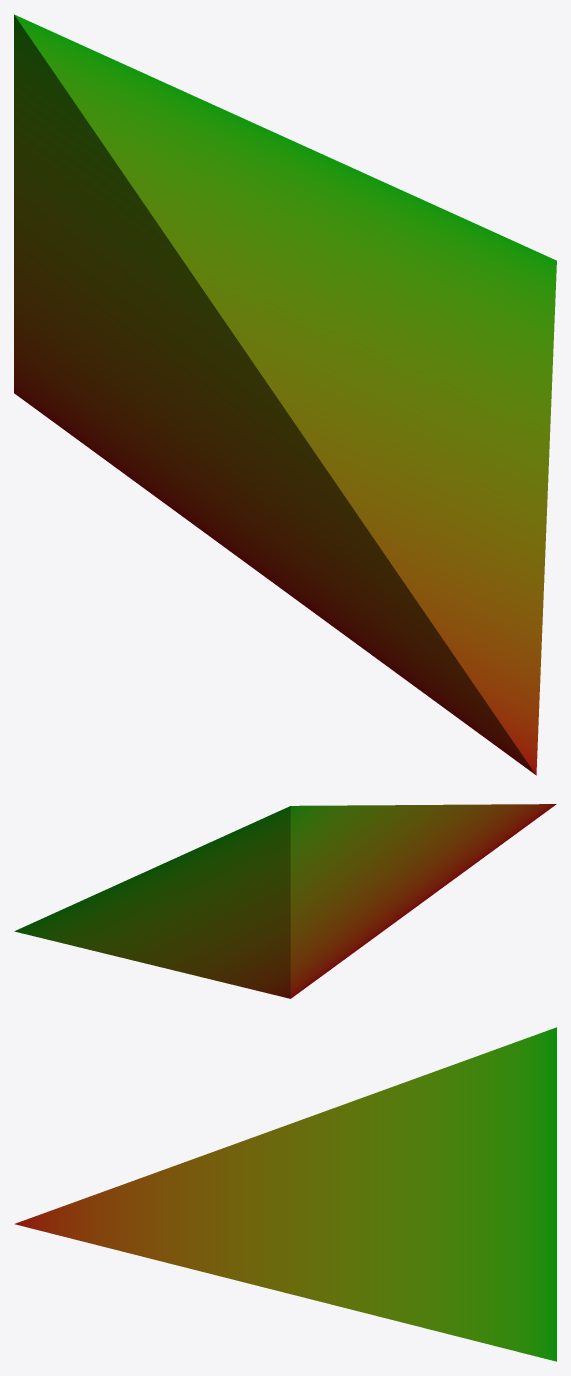
File: uv-mirrored-repeat.obj
The picture shows the model from 3 angles, top to bottom: view 1: azimuth 30°, elevation 25°; view 2: azimuth 150°, elevation 25°; view 3: azimuth 270°, elevation 25°; orthographic projection. The views are drawn at different scales.
Bounding box in the file's own units: 60 × 40 × 100.
